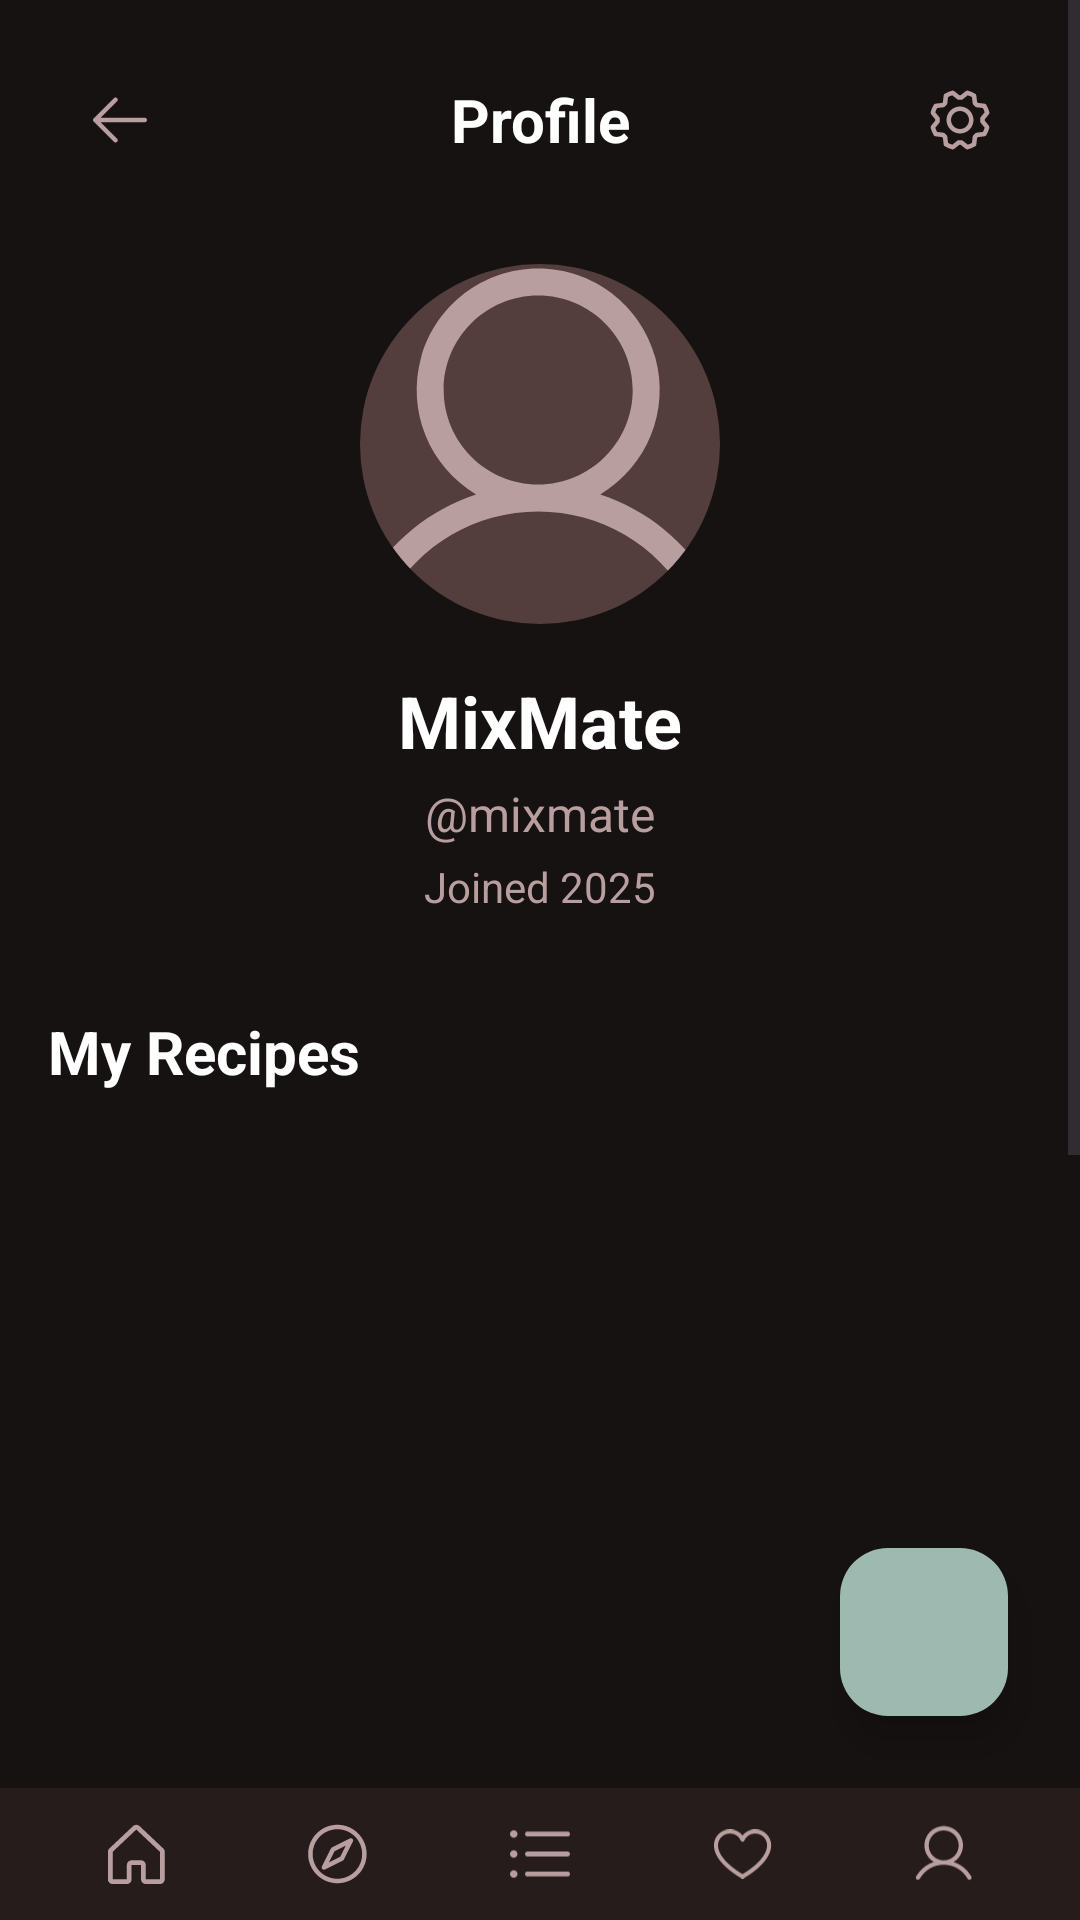

Icon click points for this 1080w x 1920h phone screenshot, format (x,y):
Back: (120,120)
Discover: (337,1854)
Favourites: (742,1854)
Home: (136,1854)
Settings: (960,120)
